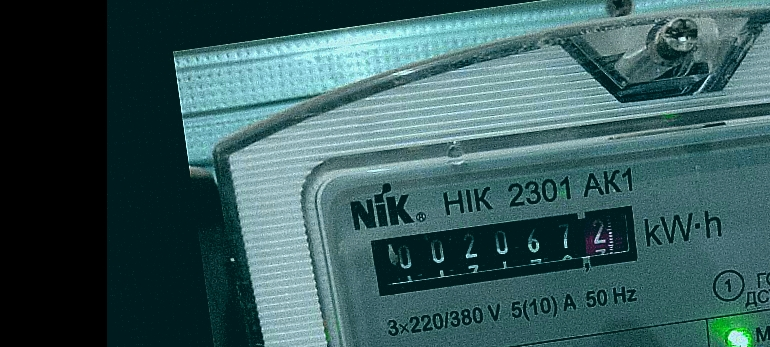0: (394, 241, 416, 272), (427, 234, 448, 265), (490, 225, 511, 256)
2: (588, 215, 610, 246), (460, 230, 481, 261)
6: (523, 224, 544, 255)
7: (555, 220, 575, 251)
screen: (355, 189, 656, 311)
